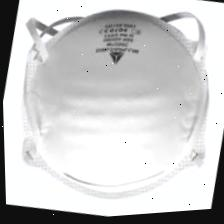mask: (3, 0, 224, 224)
